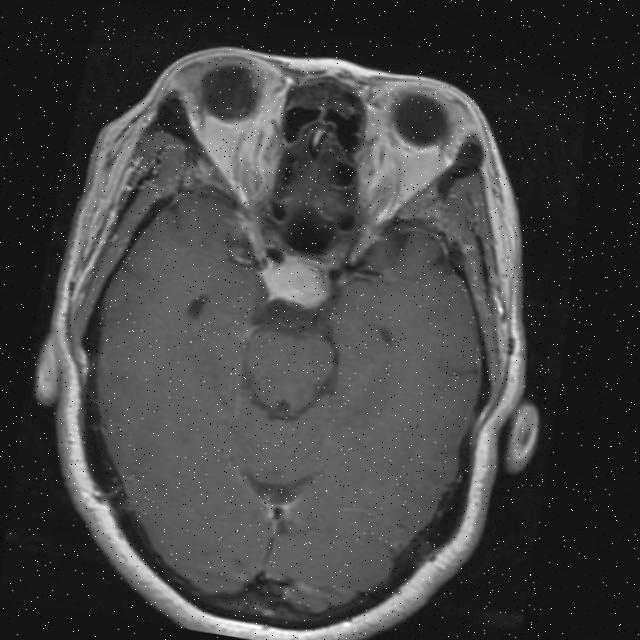Pituitary: (257, 248, 336, 310)
